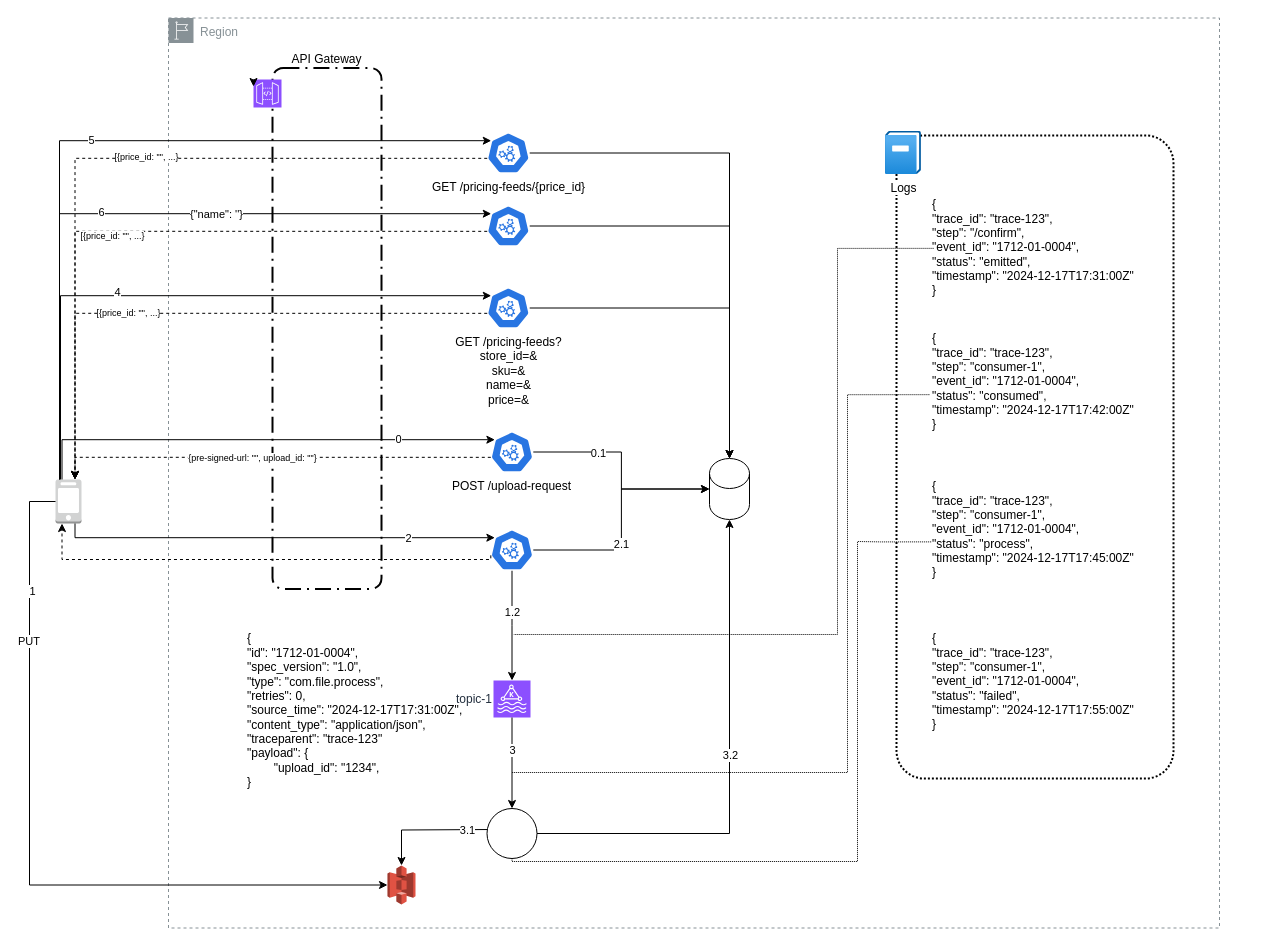
The diagram is 1266 pixels wide and 945 high, and some of its shapes have lost their labels. Each missing label, with the centre of its shape:
"consumer-1" goes at point (511, 833).
"PATCH /pricing-feeds/{price_id}" goes at point (508, 225).
"POST /confirm?upload_id={}" goes at point (511, 549).
"SPA" goes at point (68, 501).
